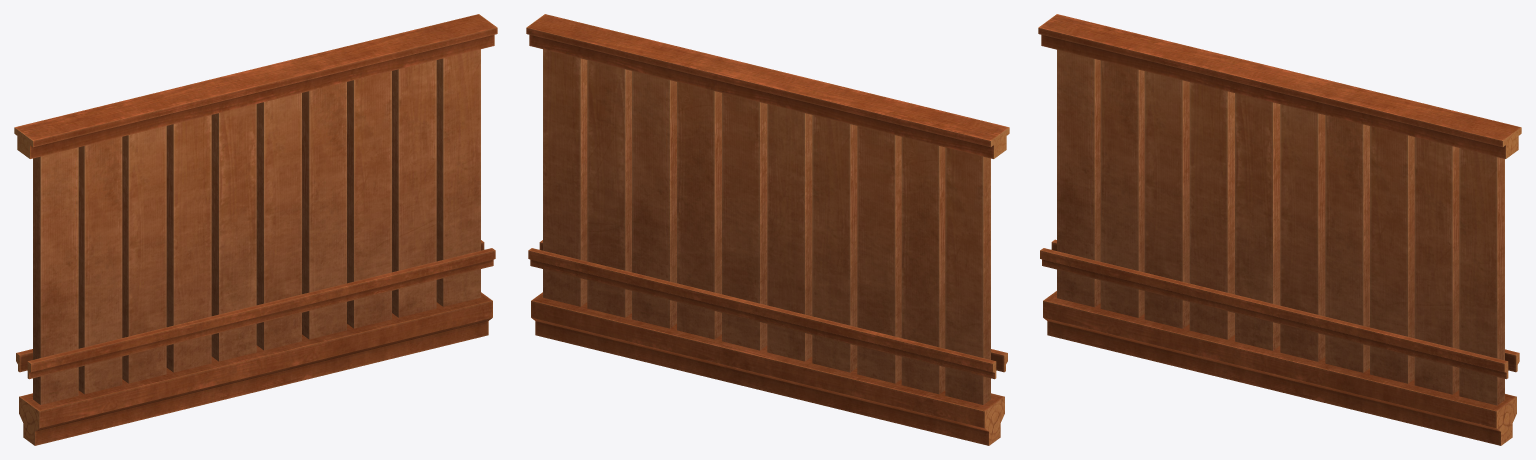
The model's file is Full panel 2.fbx.
The picture shows the model from 3 angles, left to right: view 1: azimuth 30°, elevation 25°; view 2: azimuth 150°, elevation 25°; view 3: azimuth 330°, elevation 25°; orthographic projection.
Parts seen in each view (by area): view 1: Fence1_Large_Left, Fence_Large_Frame1; view 2: Fence1_Large_Left, Fence_Large_Frame1; view 3: Fence1_Large_Left, Fence_Large_Frame1.
Boxes of the visible parts, x1,y1,x2,y2 form: Fence1_Large_Left: (16, 49, 495, 445); Fence_Large_Frame1: (14, 14, 497, 158); Fence1_Large_Left: (528, 49, 1007, 445); Fence_Large_Frame1: (526, 14, 1009, 158); Fence1_Large_Left: (1040, 49, 1519, 445); Fence_Large_Frame1: (1038, 14, 1521, 158).
Size of the model in its own units: 183 by 116 by 13.84.
